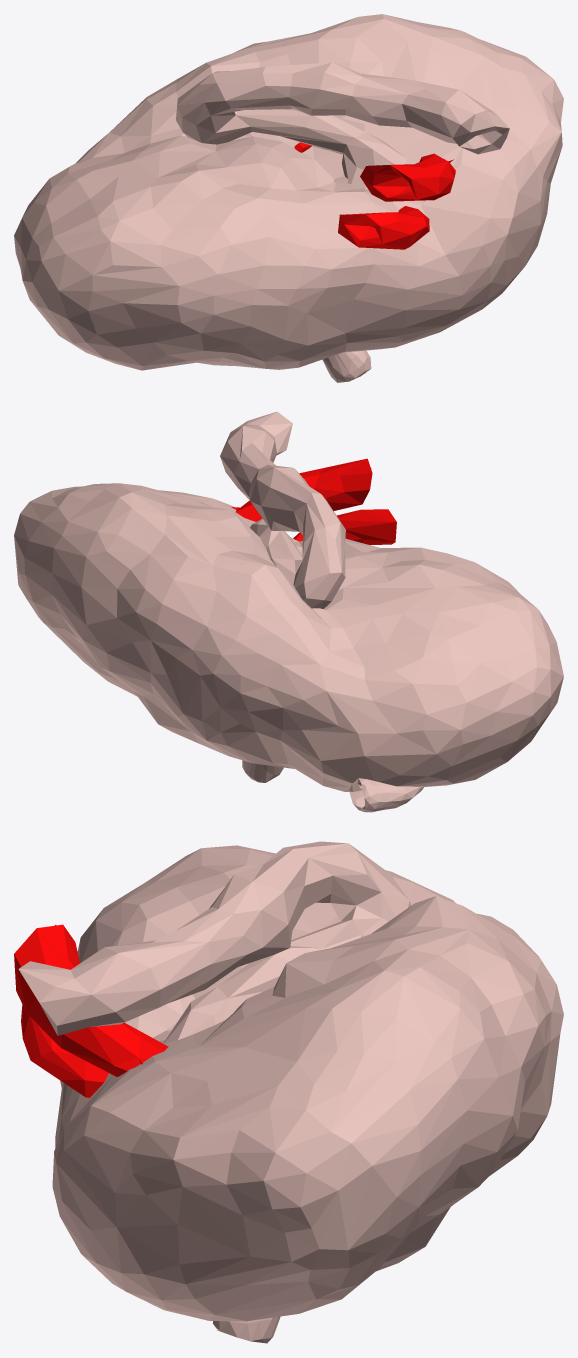
File: NIH_F_Lymph_Node_0.1.glb
3 renders of one model, top to bottom at view 1: azimuth 30°, elevation 25°; view 2: azimuth 150°, elevation 25°; view 3: azimuth 270°, elevation 25°, orthographic. The views are drawn at different scales.
Parts seen in each view (by area): view 1: Yao_capsule_of_lymph_node, Yao_efferent_lymph_node, Yao_blood_vasculature, Yao_afferent_lymphatic_vessel; view 2: Yao_capsule_of_lymph_node, Yao_efferent_lymph_node, Yao_blood_vasculature, Yao_afferent_lymphatic_vessel; view 3: Yao_capsule_of_lymph_node, Yao_efferent_lymph_node, Yao_blood_vasculature, Yao_afferent_lymphatic_vessel.
Boxes of the visible parts, left/top/right/bottom form: Yao_capsule_of_lymph_node: left=14, top=14, right=563, bottom=370; Yao_efferent_lymph_node: left=176, top=62, right=509, bottom=184; Yao_blood_vasculature: left=294, top=142, right=455, bottom=249; Yao_afferent_lymphatic_vessel: left=322, top=350, right=371, bottom=382; Yao_capsule_of_lymph_node: left=14, top=483, right=563, bottom=791; Yao_efferent_lymph_node: left=220, top=411, right=345, bottom=608; Yao_blood_vasculature: left=231, top=458, right=396, bottom=544; Yao_afferent_lymphatic_vessel: left=242, top=760, right=424, bottom=812; Yao_capsule_of_lymph_node: left=52, top=845, right=563, bottom=1321; Yao_efferent_lymph_node: left=18, top=841, right=411, bottom=1043; Yao_blood_vasculature: left=14, top=924, right=168, bottom=1097; Yao_afferent_lymphatic_vessel: left=213, top=1316, right=280, bottom=1343.
Bounding box in the file's own units: 0.0197 × 0.0113 × 0.0125.
